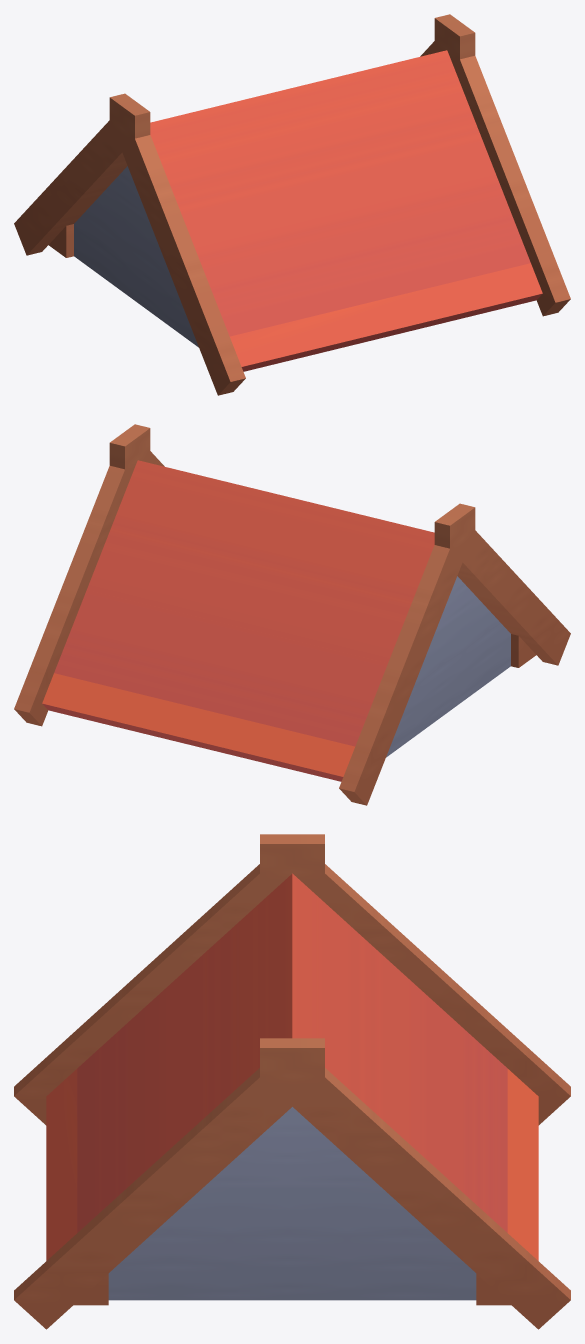
Rendered from roofGableDetail.fbx.
3 views of the same model, one above another, from view 1: azimuth 30°, elevation 25°; view 2: azimuth 150°, elevation 25°; view 3: azimuth 270°, elevation 25° (orthographic). The views are drawn at different scales.
Parts seen in each view (by area): view 1: roofGableDetail; view 2: roofGableDetail; view 3: roofGableDetail.
Part boxes in pixels (bbox=[...]): roofGableDetail: bbox=[14, 14, 570, 395]; roofGableDetail: bbox=[14, 424, 570, 805]; roofGableDetail: bbox=[14, 834, 570, 1329].
Bounding box in the file's own units: 1.1 × 1.21 × 0.6768.
